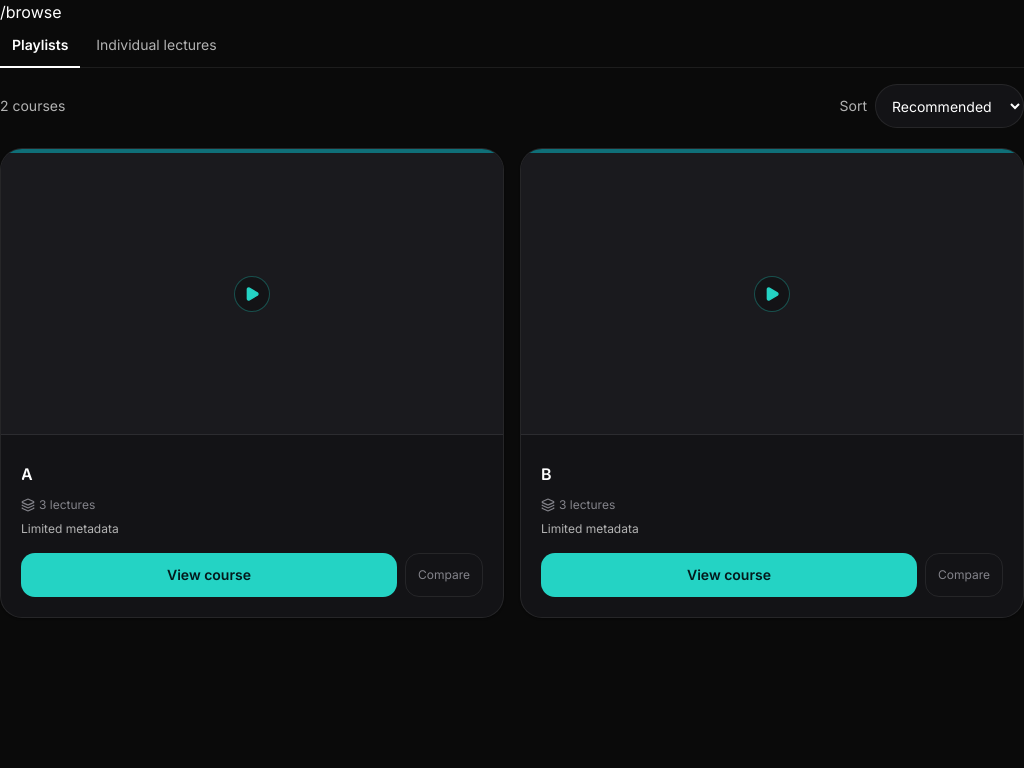
Test: comparison › writes the selection into the url so it can be shared
Click the 1st checkbox labelled "Compare" at (444, 575), box [405,553,483,597]
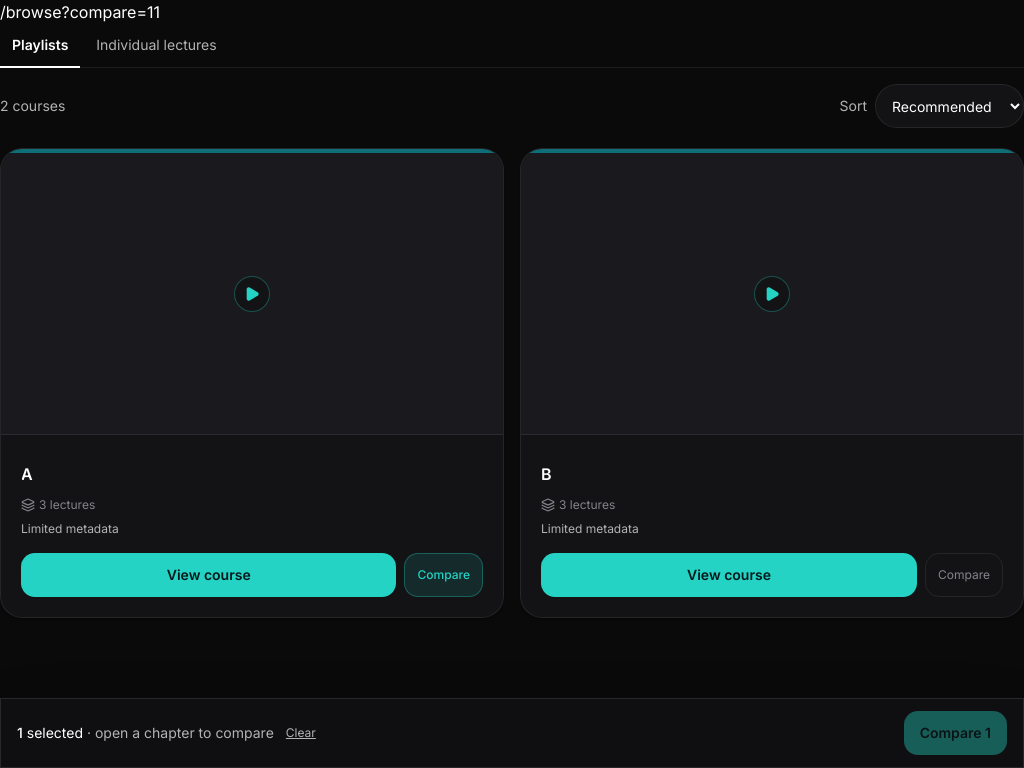
Expected: the text with test id "loc" shows "compare=11", [0,2,160,22]
